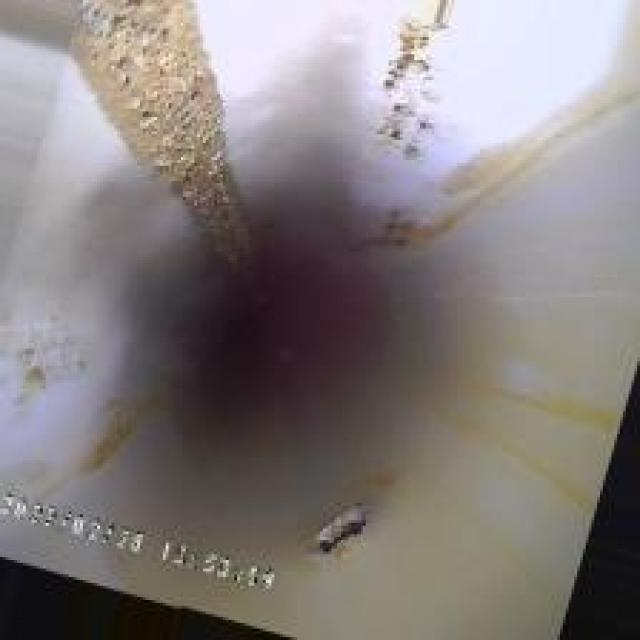ferrule: (309, 494, 374, 560)
